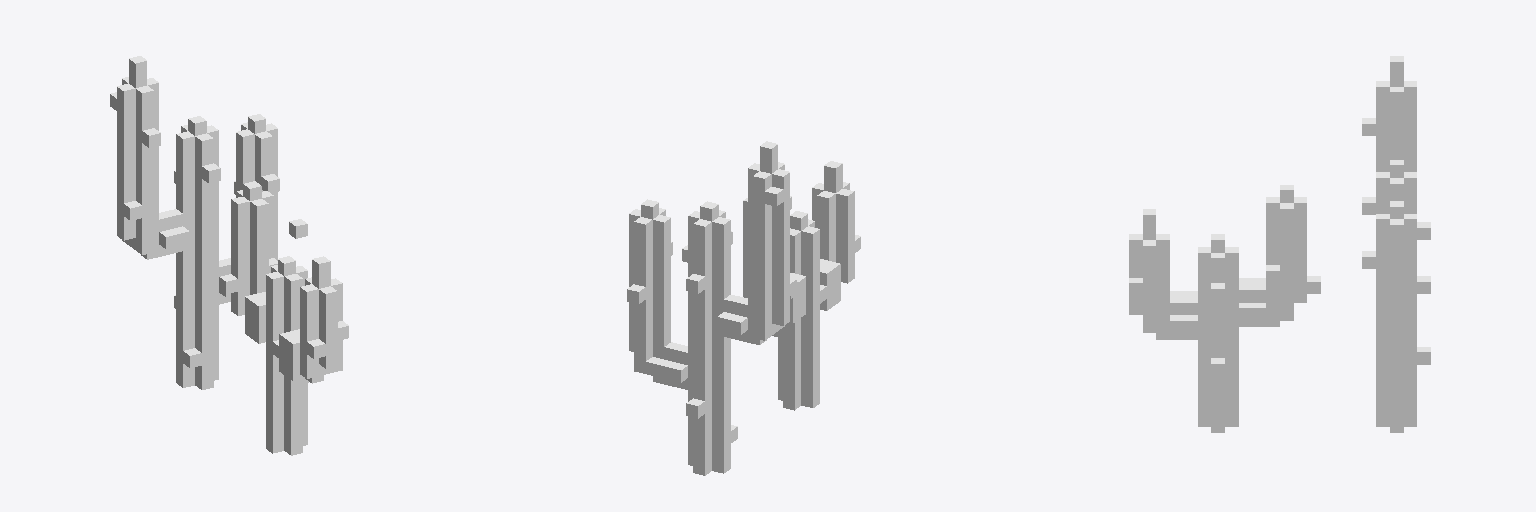
Rendered from cactusFour.obj.
The picture shows the model from 3 angles: view 1: azimuth 30°, elevation 25°; view 2: azimuth 150°, elevation 25°; view 3: azimuth 270°, elevation 25°; orthographic projection.
Parts seen in each view (by area): view 1: object 1; view 2: object 1; view 3: object 1.
Boxes of the visible parts, x1=… form: object 1: x1=110, y1=56, x2=348, y2=455; object 1: x1=627, y1=141, x2=860, y2=475; object 1: x1=1129, y1=56, x2=1430, y2=432.
Bounding box in the file's own units: 1.3 × 2.7 × 2.2.